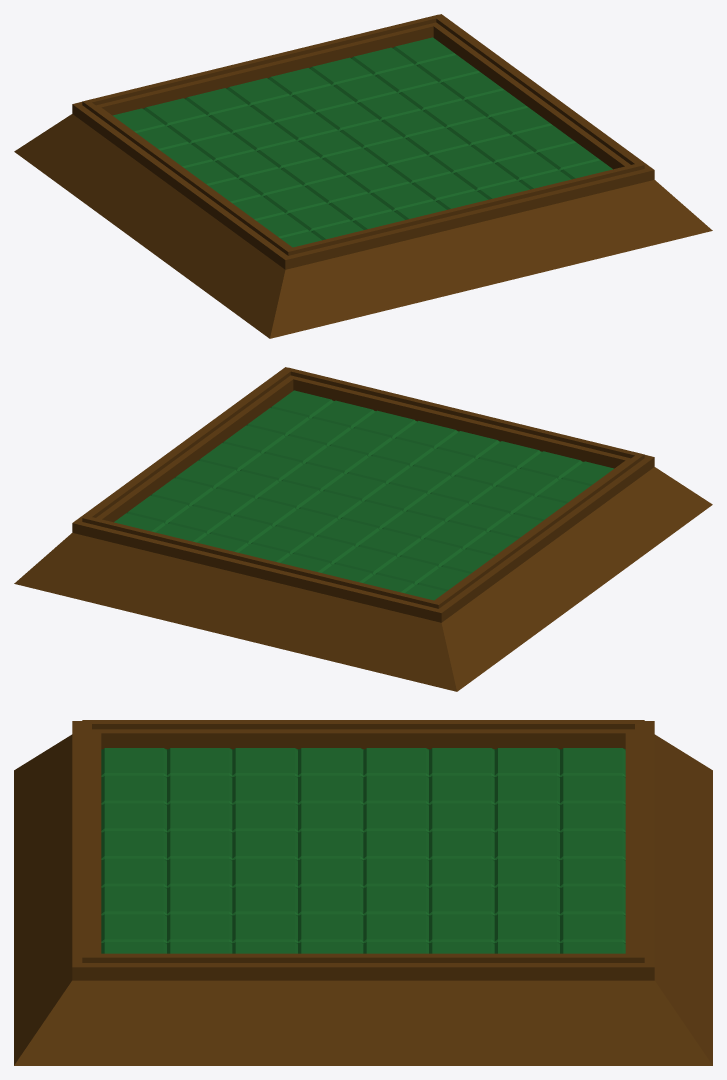
Rendered from Plateau.fbx.
3 views of the same model, one above another, from view 1: azimuth 30°, elevation 25°; view 2: azimuth 150°, elevation 25°; view 3: azimuth 270°, elevation 25° (orthographic). The views are drawn at different scales.
Visible parts, largest first — view 1: Cube; view 2: Cube; view 3: Cube.
Part boxes in pixels (x1,y1,x2,y2): Cube: [14, 14, 712, 338]; Cube: [14, 367, 712, 691]; Cube: [14, 720, 712, 1065].
Bounding box in the file's own units: 240 × 30 × 240.
